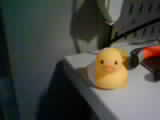duck: (90, 43, 127, 95)
